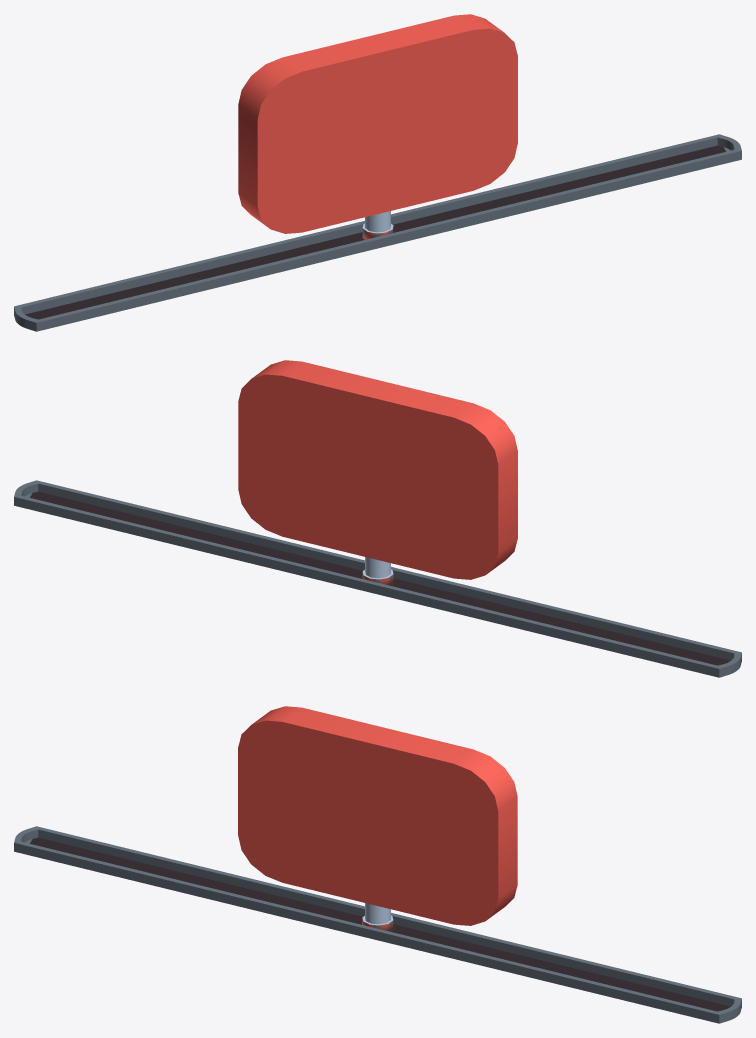
The model's file is MovableWall02.fbx.
3 views of the same model, one above another, from view 1: azimuth 30°, elevation 25°; view 2: azimuth 150°, elevation 25°; view 3: azimuth 330°, elevation 25° (orthographic).
Visible parts, largest first — view 1: Wall.003, Base.001; view 2: Wall.003, Base.001; view 3: Wall.003, Base.001.
Part boxes in pixels (x1,y1,x2,y2): Wall.003: (238, 14, 517, 239); Base.001: (14, 134, 741, 331); Wall.003: (238, 360, 517, 585); Base.001: (14, 480, 741, 677); Wall.003: (238, 706, 517, 931); Base.001: (14, 826, 741, 1023).
Size of the model in its own units: 848 by 219 by 46.23.
